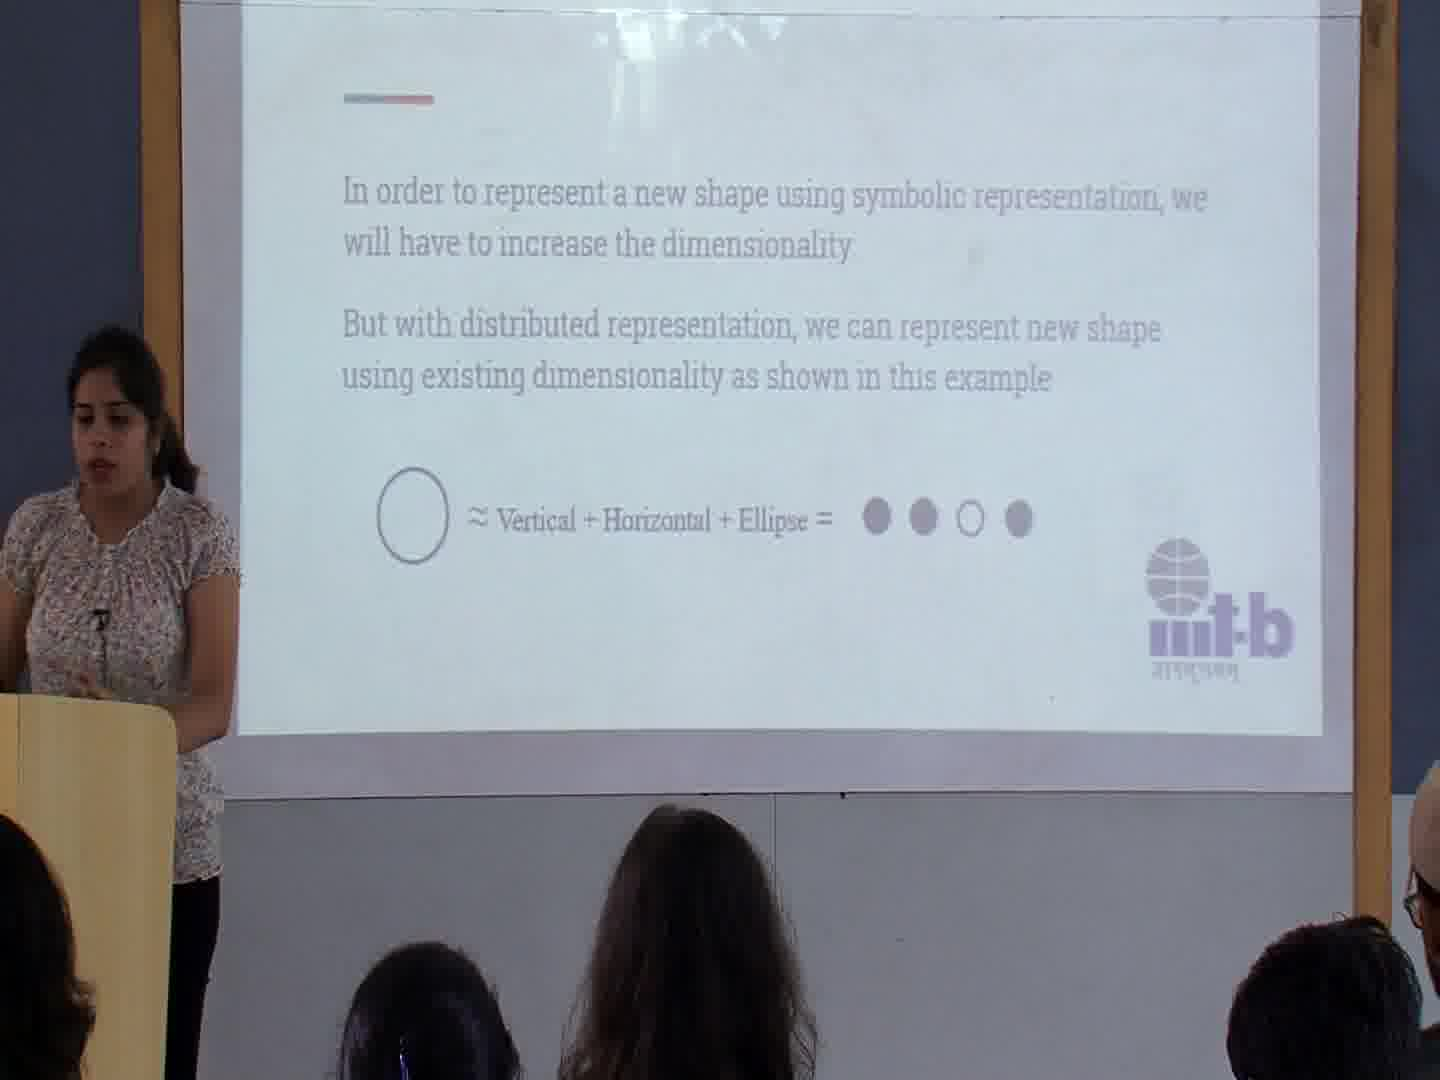slide: (242, 1, 1321, 733)
